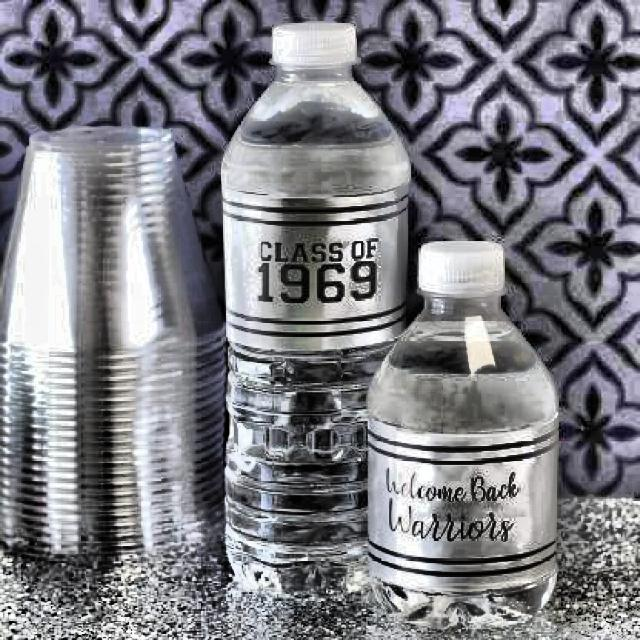Bottles: (184, 12, 383, 610), (357, 218, 568, 634)
